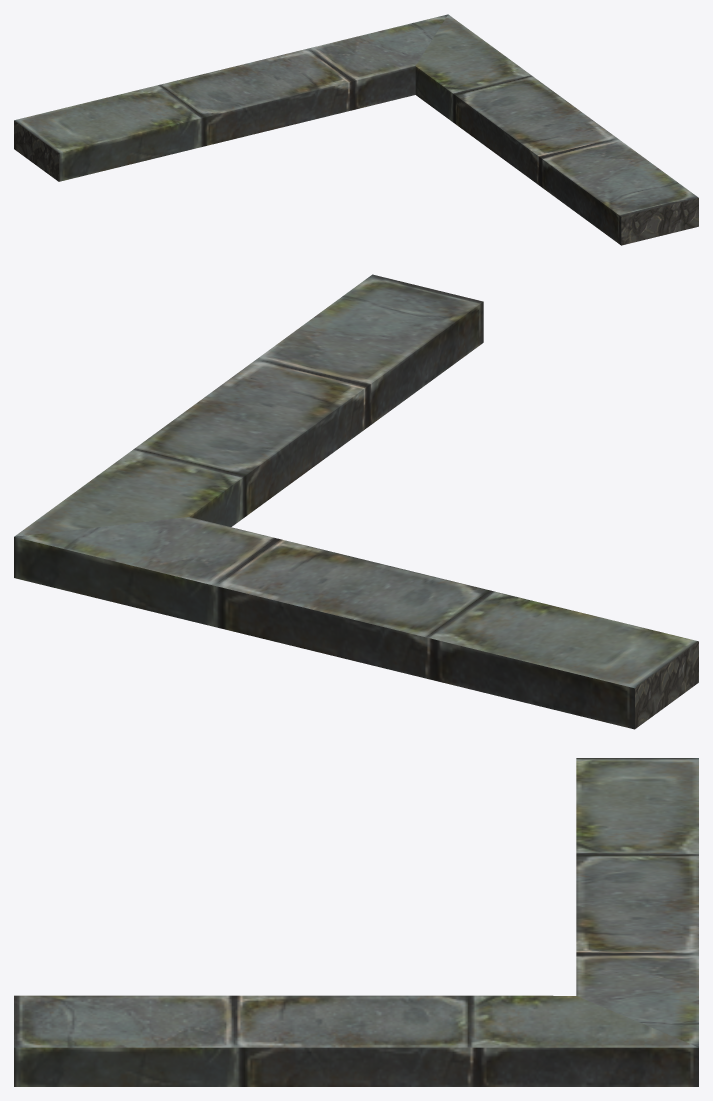
The model's file is F_fushou009.fbx.
3 views of the same model, one above another, from view 1: azimuth 30°, elevation 25°; view 2: azimuth 150°, elevation 25°; view 3: azimuth 270°, elevation 25° (orthographic). The views are drawn at different scales.
Parts seen in each view (by area): view 1: F_fushou009; view 2: F_fushou009; view 3: F_fushou009.
Part boxes in pixels (x1=…): F_fushou009: x1=14, y1=14, x2=698, y2=245; F_fushou009: x1=14, y1=274, x2=698, y2=729; F_fushou009: x1=14, y1=758, x2=698, y2=1086.
Bounding box in the file's own units: 166 × 10.54 × 166.
